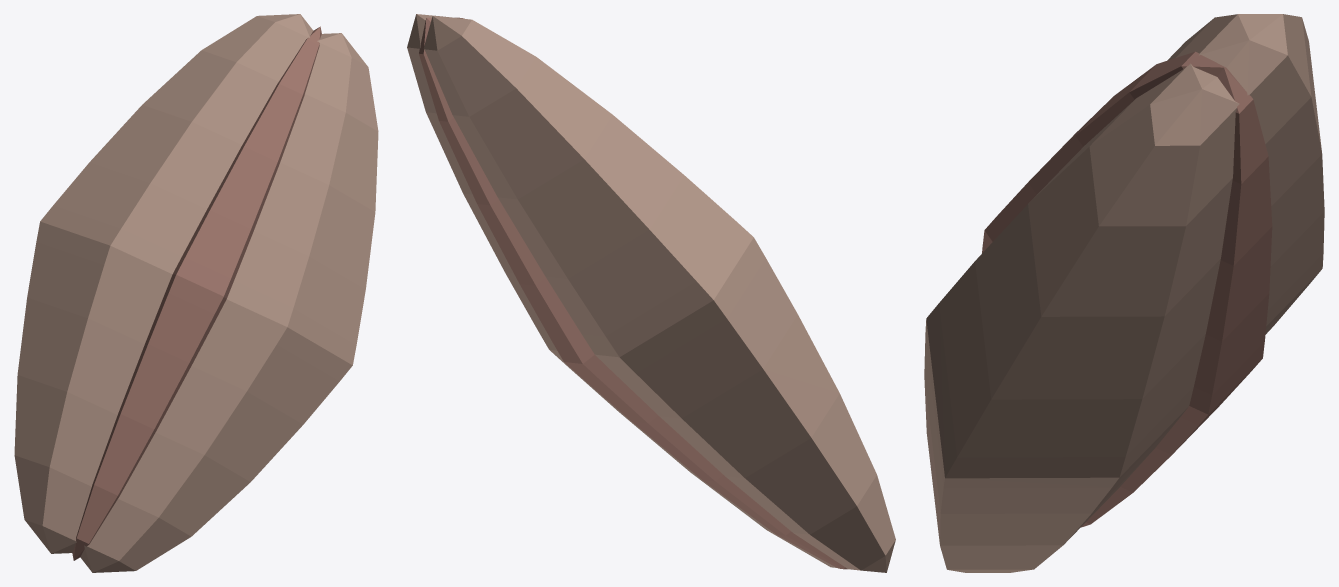
Rendered from CarrotSeed.fbx.
3 views of the same model, side by side, from view 1: azimuth 30°, elevation 25°; view 2: azimuth 150°, elevation 25°; view 3: azimuth 270°, elevation 25° (orthographic). The views are drawn at different scales.
Visible parts, largest first — view 1: node_id27, node_id43, node_id55; view 2: node_id27, node_id55, node_id43; view 3: node_id43, node_id55, node_id27.
Part boxes in pixels (x1,y1,x2,y2): node_id27: [14, 14, 313, 553]; node_id43: [80, 33, 378, 572]; node_id55: [72, 26, 321, 560]; node_id27: [423, 16, 895, 572]; node_id55: [419, 17, 847, 569]; node_id43: [407, 14, 836, 567]; node_id43: [924, 63, 1277, 572]; node_id55: [982, 51, 1272, 527]; node_id27: [1122, 14, 1324, 483].
Bounding box in the file's own units: 0.3582 × 0.4149 × 0.2023.
3 materials, 3 textured.
